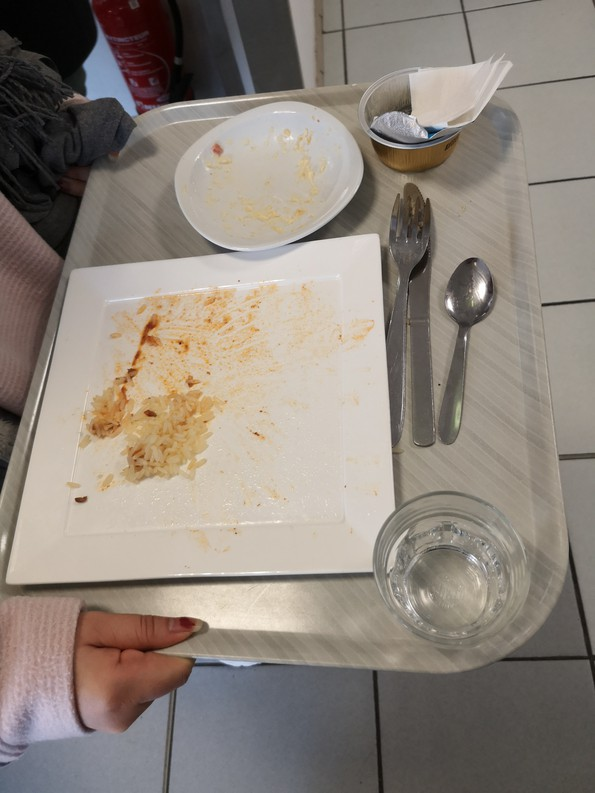cup: (364, 499, 541, 671)
cutlery: (380, 186, 501, 454)
orga: (110, 388, 239, 522)
trash: (369, 65, 496, 167)
